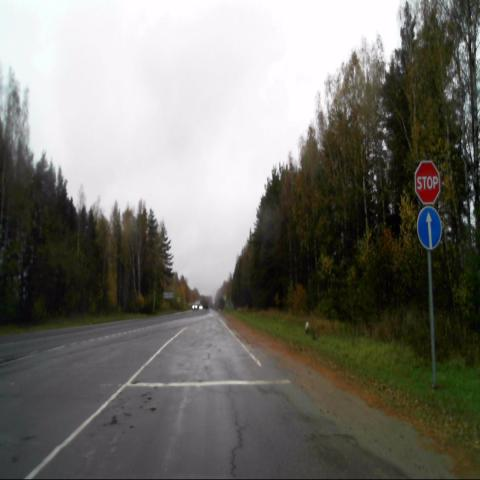2_5: (413, 160, 435, 203)
